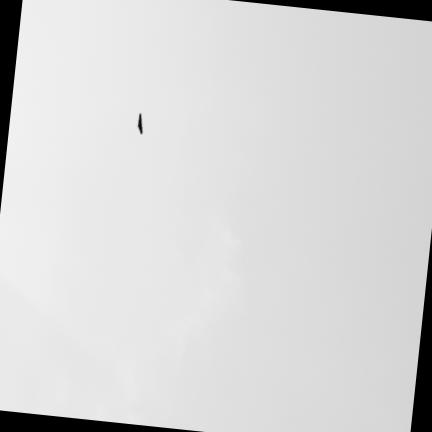Shahed: (137, 114, 142, 134)
